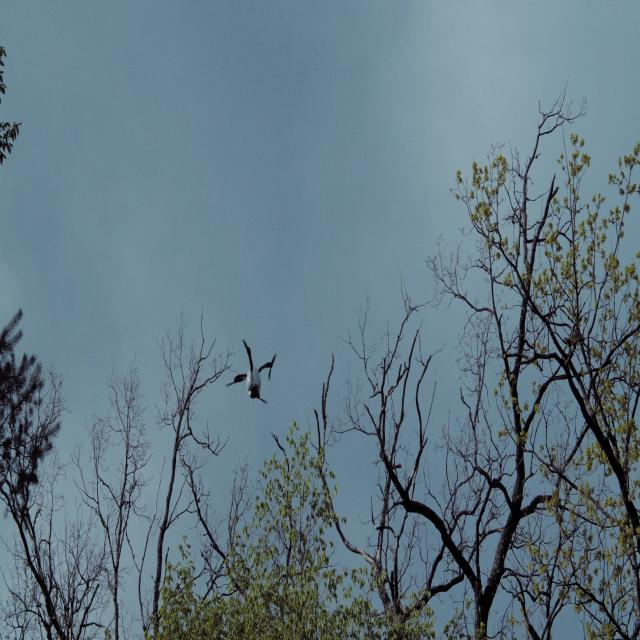Drone: (227, 336, 281, 416)
